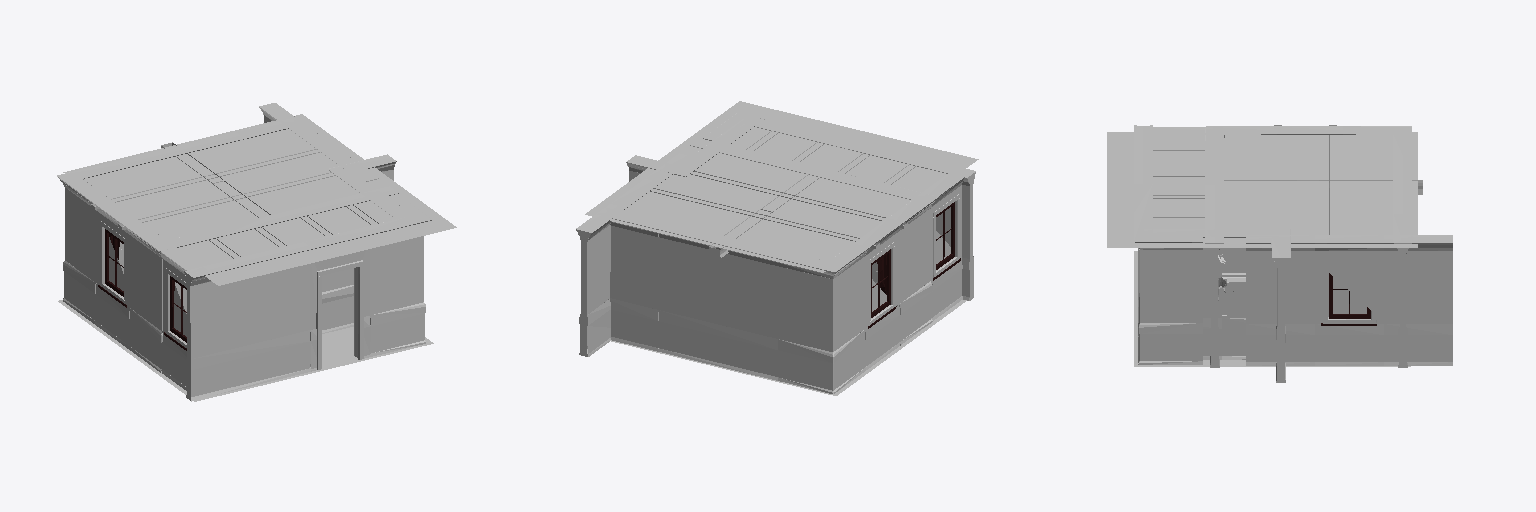
Rendered from bathroomLowPoly.obj.
The picture shows the model from 3 angles: view 1: azimuth 30°, elevation 25°; view 2: azimuth 150°, elevation 25°; view 3: azimuth 270°, elevation 25°; orthographic projection.
Parts seen in each view (by area): view 1: Wall_Window.001_Plane.024; view 2: Wall_Window.001_Plane.024; view 3: Wall_Window.001_Plane.024.
Part boxes in pixels (left/top/right/bottom): Wall_Window.001_Plane.024: left=57, top=103, right=456, bottom=401; Wall_Window.001_Plane.024: left=576, top=101, right=978, bottom=395; Wall_Window.001_Plane.024: left=1107, top=125, right=1452, bottom=382.
Size of the model in its own units: 21.18 by 9.54 by 23.24.